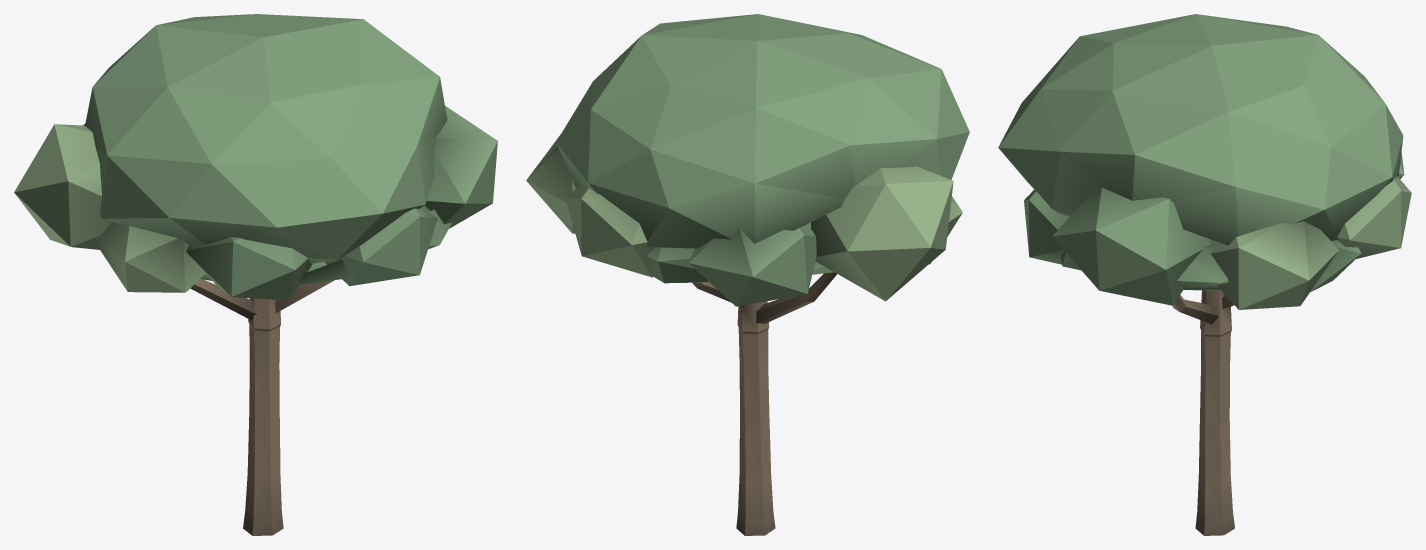
Rendered from tree.glb.
3 views of the same model, side by side, from view 1: azimuth 30°, elevation 25°; view 2: azimuth 150°, elevation 25°; view 3: azimuth 270°, elevation 25° (orthographic). The views are drawn at different scales.
Visible parts, largest first — view 1: tree; view 2: tree; view 3: tree.
Part boxes in pixels (box(x1,y1,x2,y2)): tree: box(14, 14, 497, 535); tree: box(526, 14, 969, 535); tree: box(998, 14, 1411, 535).
Bounding box in the file's own units: 7.34 × 8.54 × 6.63.
